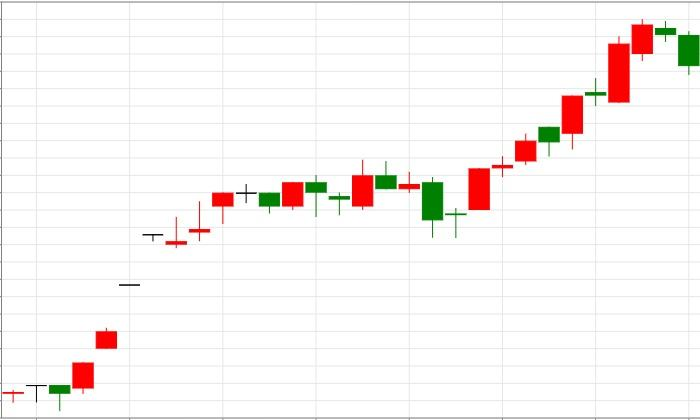morning_star_rise: (351, 160, 490, 237)
